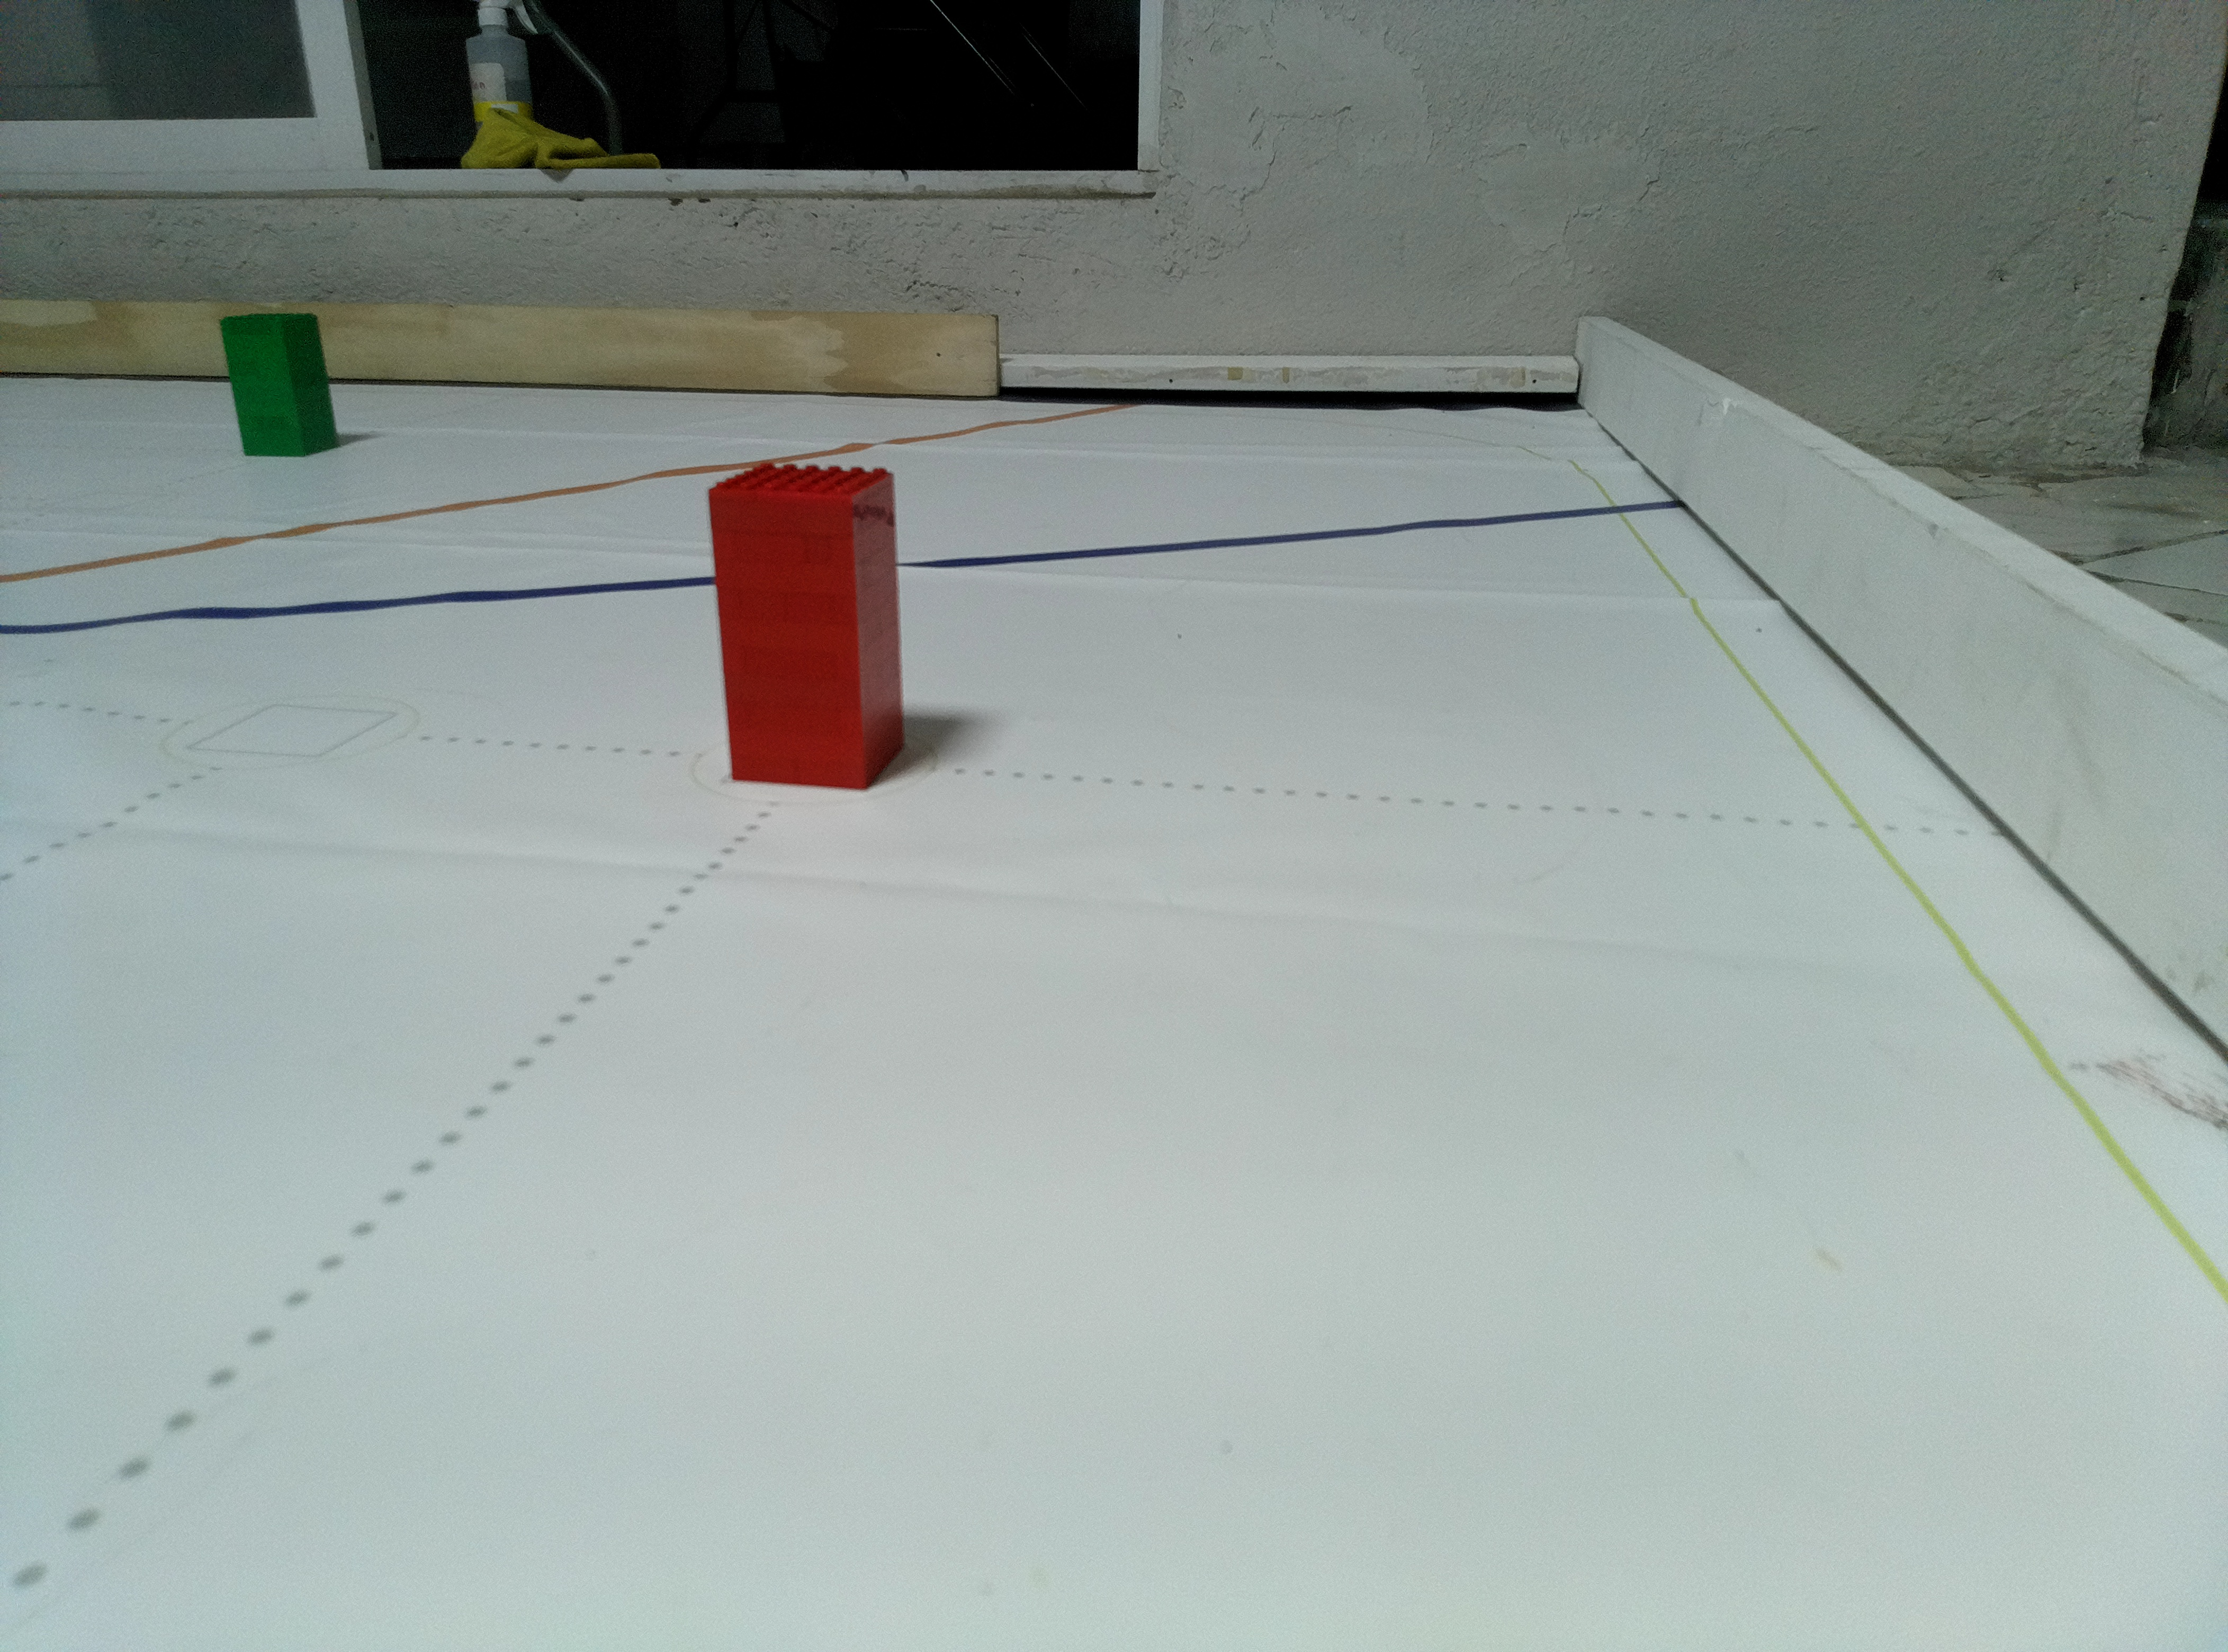greenbox: (215, 309, 342, 460)
redbox: (701, 460, 913, 793)
